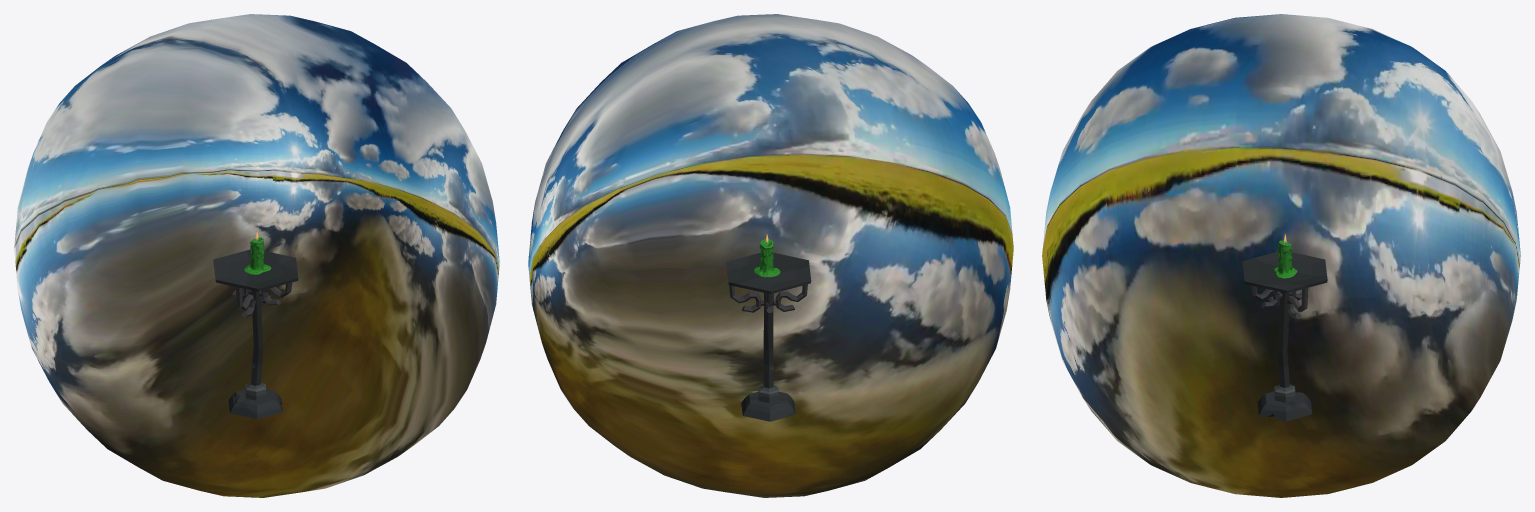
The model's file is XCandleAnimatedFlameMedium.glb.
3 renders of one model, left to right at view 1: azimuth 30°, elevation 25°; view 2: azimuth 150°, elevation 25°; view 3: azimuth 270°, elevation 25°, orthographic.
Parts seen in each view (by area): view 1: Room, Candle_Stand, XBase; view 2: Room, Candle_Stand, XBase; view 3: Room, Candle_Stand, XBase.
Part boxes in pixels (<box>): Room: <box>14,14,499,497</box>; Candle_Stand: <box>213,249,298,419</box>; XBase: <box>244,237,271,274</box>; Room: <box>528,14,1013,497</box>; Candle_Stand: <box>726,252,811,421</box>; XBase: <box>754,239,780,277</box>; Room: <box>1042,14,1520,497</box>; Candle_Stand: <box>1242,251,1327,421</box>; XBase: <box>1274,240,1297,278</box>.
Size of the model in its own units: 24.44 by 24.44 by 24.44.
Materials: 4 (4 with a texture image).
